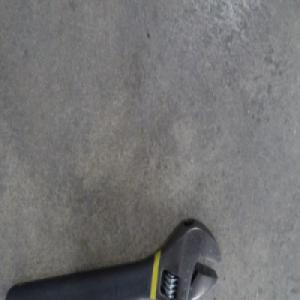AdjustableWrench: (7, 216, 225, 299)
